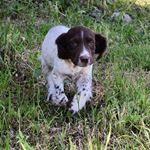puppy: (36, 19, 114, 119)
